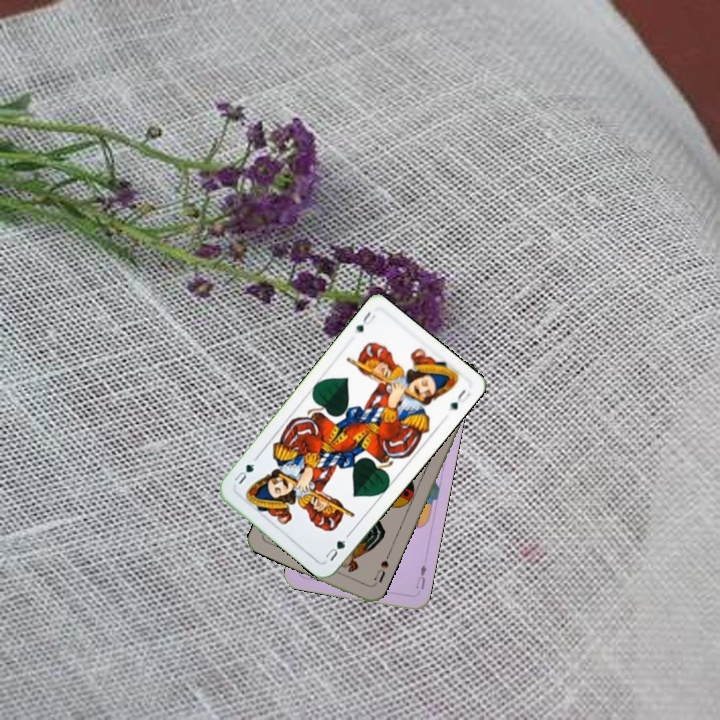EU: (411, 560, 429, 592)
GU: (321, 530, 352, 564), (351, 307, 378, 335)
SU: (370, 556, 391, 585)
